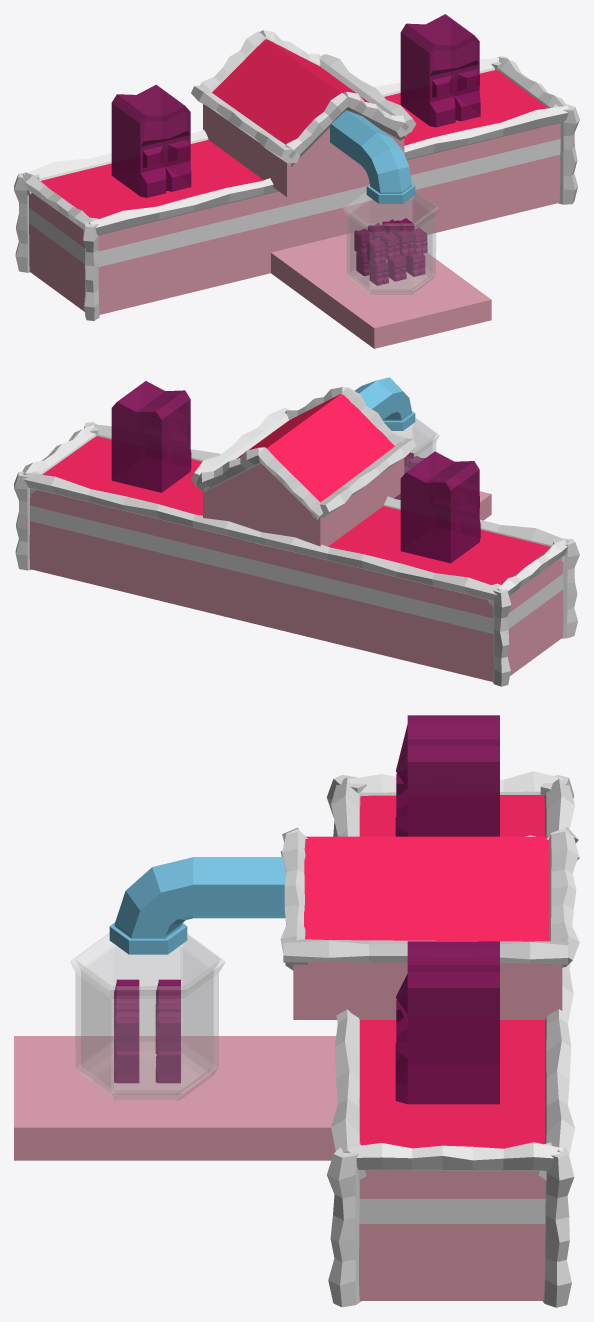
File: Tower_Support_Speed (3).fbx
3 views of the same model, one above another, from view 1: azimuth 30°, elevation 25°; view 2: azimuth 150°, elevation 25°; view 3: azimuth 270°, elevation 25° (orthographic). The views are drawn at different scales.
Parts seen in each view (by area): view 1: Cube.001, Cube.058, Cylinder.005, Cube.032, Cube.053, Cube.056, Cube.055, Cube.052, Cube.033, Cube.054, Cube.057, Cube.060 (+3 smaller); view 2: Cube.001, Cube.058, Cube.033, Cube.053, Cylinder.005, Cube.057, Cube.054, Cube.052, Cube.032, Cube.056, Cube.055; view 3: Cube.001, Cylinder.005, Cube.058, Cube.052, Cube.033, Cube.032, Cube.056, Cube.053, Cube.057, Cube.054, Cube.055, Cube.060 (+3 smaller).
Part boxes in pixels (x1,y1,x2,y2): Cube.001: (29,39,560,348); Cube.058: (111,14,480,197); Cylinder.005: (330,110,439,295); Cube.032: (89,105,568,235); Cube.053: (191,54,416,162); Cube.056: (83,104,579,320); Cube.055: (285,91,408,166); Cube.052: (21,57,565,229); Cube.033: (23,57,501,195); Cube.054: (200,30,320,92); Cube.057: (14,56,507,272); Cube.060: (367,228,427,264); Cube.001: (29,393,563,681); Cube.058: (111,381,480,563); Cube.033: (22,472,501,601); Cube.053: (191,407,416,517); Cylinder.005: (355,377,439,499); Cube.057: (14,471,511,686); Cube.054: (196,447,322,519); Cube.052: (22,424,567,606); Cube.032: (89,424,568,561); Cube.056: (84,422,579,638); Cube.055: (285,387,405,445); Cube.001: (14,795,562,1300); Cylinder.005: (70,857,286,1100); Cube.058: (395,715,499,1104); Cube.052: (348,771,562,1171); Cube.033: (537,777,574,1180); Cube.032: (331,777,366,1180); Cube.056: (326,775,366,1307); Cube.053: (283,835,568,964); Cube.057: (540,775,574,1307); Cube.054: (542,827,579,967); Cube.055: (280,827,308,970); Cube.060: (114,979,139,1051).
Bounding box in the file's own units: 274 × 94.36 × 169.
